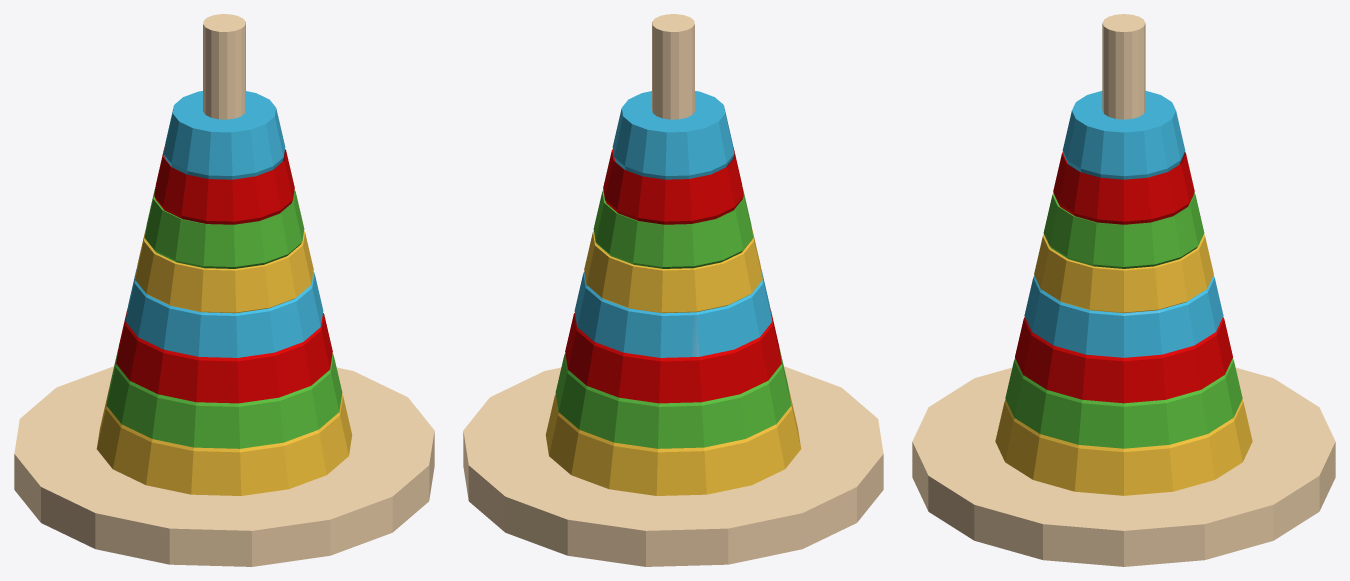
The model's file is Prop_Toy_01.fbx.
3 views of the same model, side by side, from view 1: azimuth 30°, elevation 25°; view 2: azimuth 150°, elevation 25°; view 3: azimuth 270°, elevation 25° (orthographic).
Parts seen in each view (by area): view 1: Prop_Toy_01; view 2: Prop_Toy_01; view 3: Prop_Toy_01.
Part boxes in pixels (box(x1,y1,x2,y2)): Prop_Toy_01: box(14, 14, 434, 566); Prop_Toy_01: box(463, 14, 883, 566); Prop_Toy_01: box(912, 14, 1335, 566).
Bounding box in the file's own units: 39.35 × 46.63 × 39.35.
